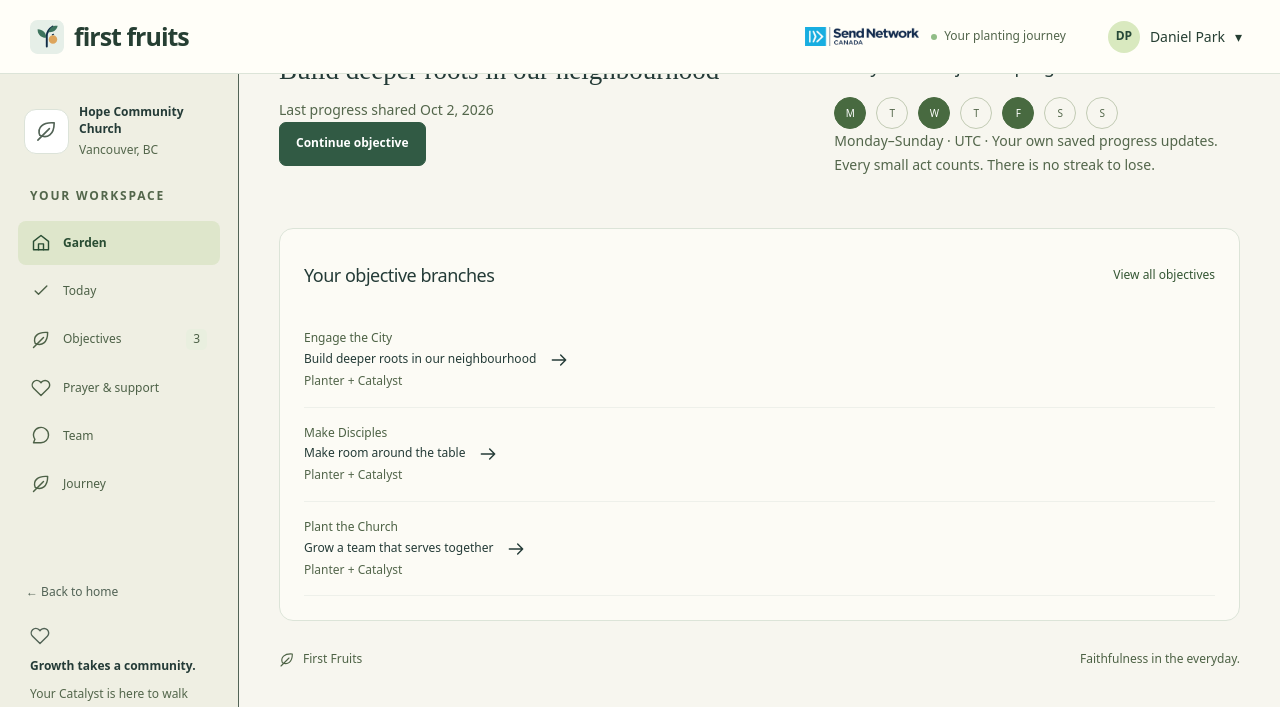
planter workspace › retains the progress draft when persistence fails
(page scrolled)
Click the button "Engage the City Build deeper roots" at (348, 338), box [304, 313, 1215, 408]
(page scrolled)
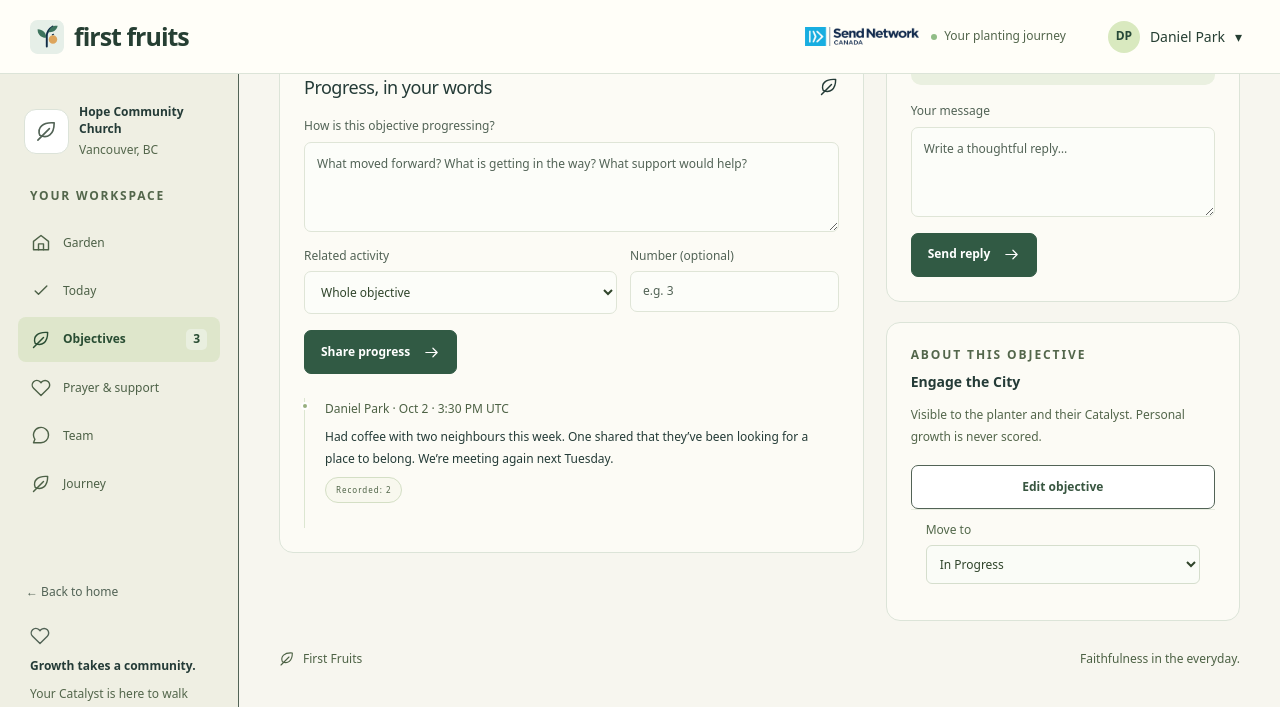
Replace the text in the text box labelled "How is this objective progressing?" with "A draft worth keeping" at (571, 187), box [304, 142, 839, 232]
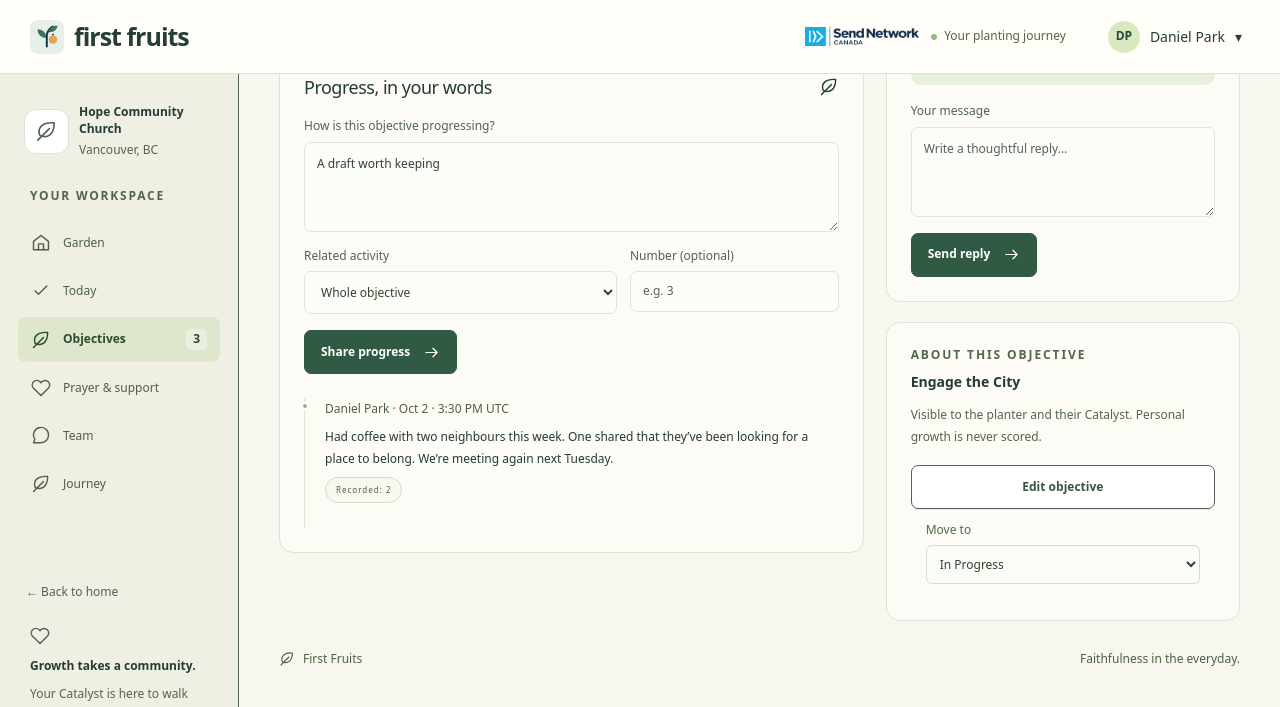
Submit the form named "Share progress", box [304, 118, 839, 374]
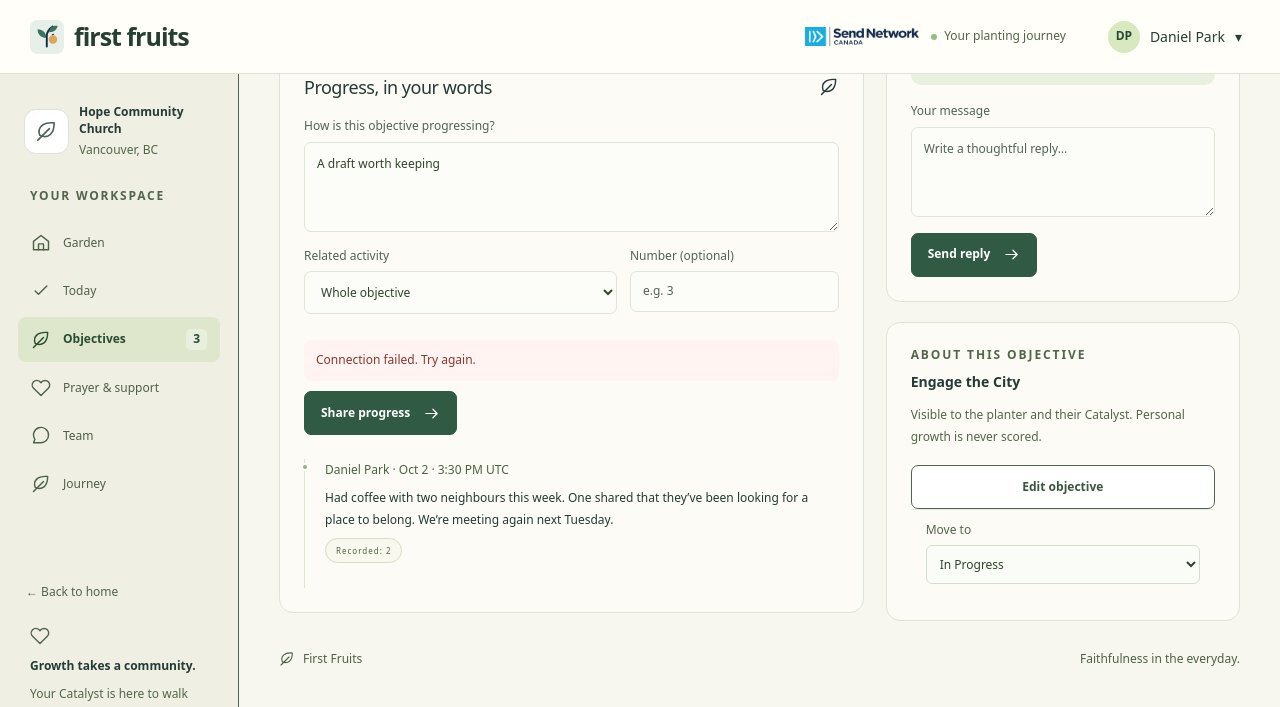
Check: the message shows "Connection failed", box [316, 351, 476, 368]
